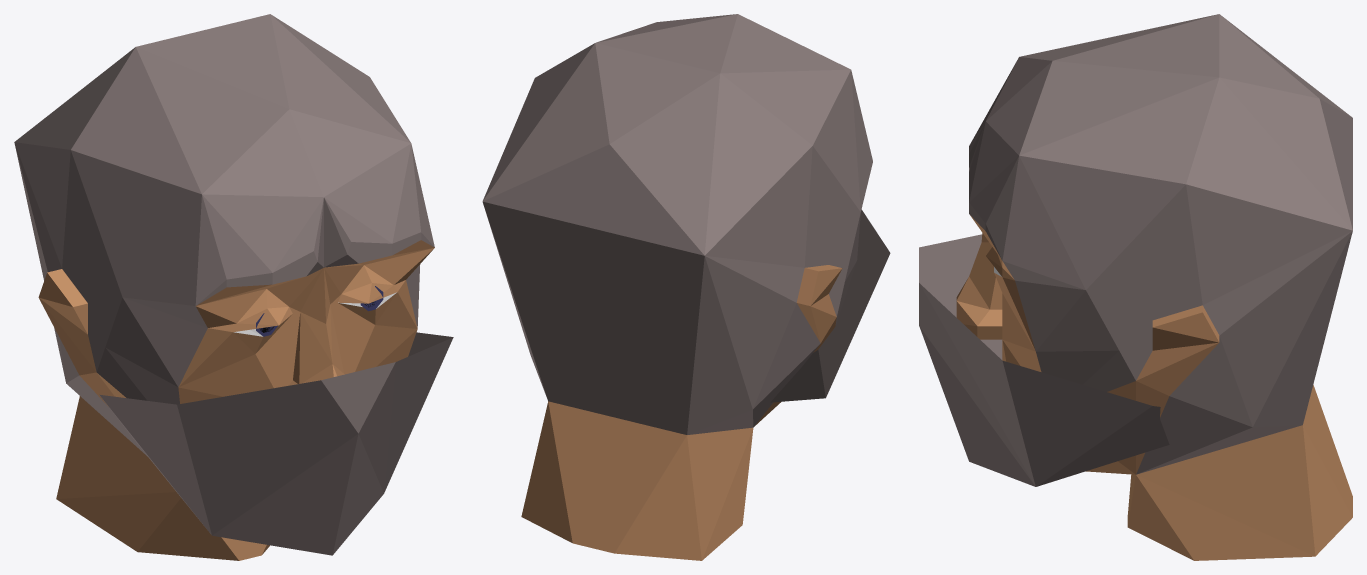
Rendered from model_60_npc_head.obj.
3 views of the same model, side by side, from view 1: azimuth 30°, elevation 25°; view 2: azimuth 150°, elevation 25°; view 3: azimuth 270°, elevation 25° (orthographic). The views are drawn at different scales.
Visible parts, largest first — view 1: 60; view 2: 60; view 3: 60.
Part boxes in pixels (x1,y1,x2,y2): 60: (14,14,453,560); 60: (482,14,890,560); 60: (919,14,1352,560).
Bounding box in the file's own units: 88 × 126 × 104.
